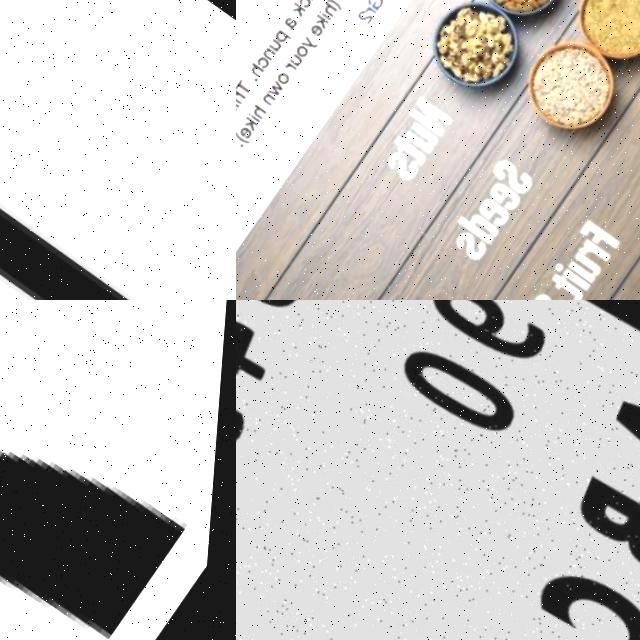0: (356, 300, 554, 468)
4: (236, 300, 308, 417)
5: (236, 301, 296, 498)
6: (236, 370, 276, 572)
7: (0, 300, 236, 640)
9: (382, 300, 590, 403)
A: (284, 10, 304, 30)
C: (260, 52, 276, 68), (300, 0, 316, 6)
D: (461, 198, 509, 239)
E: (492, 171, 530, 206), (481, 188, 519, 222), (311, 18, 330, 36), (242, 122, 259, 139)
F: (585, 209, 628, 246)
G: (367, 0, 389, 6)
H: (250, 59, 269, 76), (254, 101, 273, 118), (236, 86, 251, 103), (322, 0, 341, 13)
I: (560, 252, 598, 281), (251, 109, 267, 122), (252, 110, 267, 121), (320, 6, 335, 17), (236, 94, 245, 107)
K: (289, 0, 310, 16), (315, 9, 333, 27), (246, 114, 263, 129)
L: (0, 5, 211, 300)
N: (412, 90, 460, 133), (266, 42, 282, 58), (266, 88, 281, 105)
O: (298, 40, 314, 57), (280, 67, 296, 83)
P: (277, 26, 297, 45)
R: (584, 229, 618, 259), (288, 58, 302, 72), (366, 0, 381, 13)
S: (493, 147, 542, 190), (387, 143, 427, 179), (458, 221, 496, 256), (236, 99, 243, 116)
T: (396, 127, 436, 161), (556, 261, 594, 294), (238, 75, 259, 95)
U: (409, 114, 448, 150), (574, 241, 610, 274), (271, 34, 287, 50), (292, 49, 308, 65)
W: (272, 76, 291, 96)
Y: (304, 31, 324, 49)
